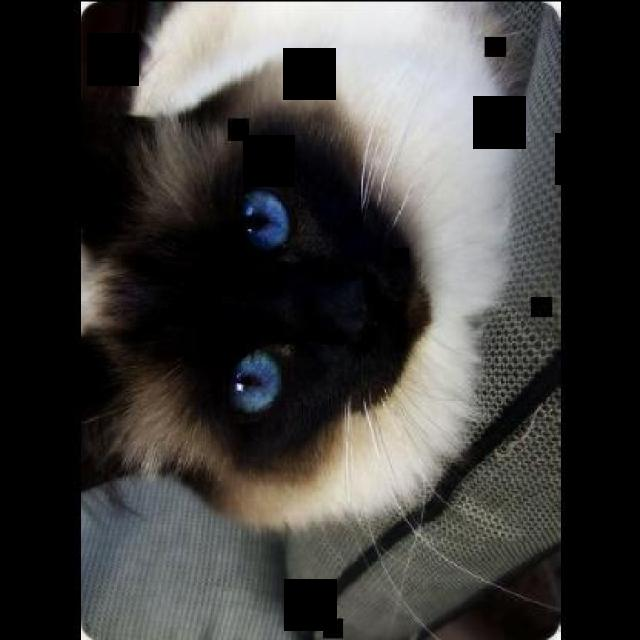unauthorized: (79, 0, 526, 537)
